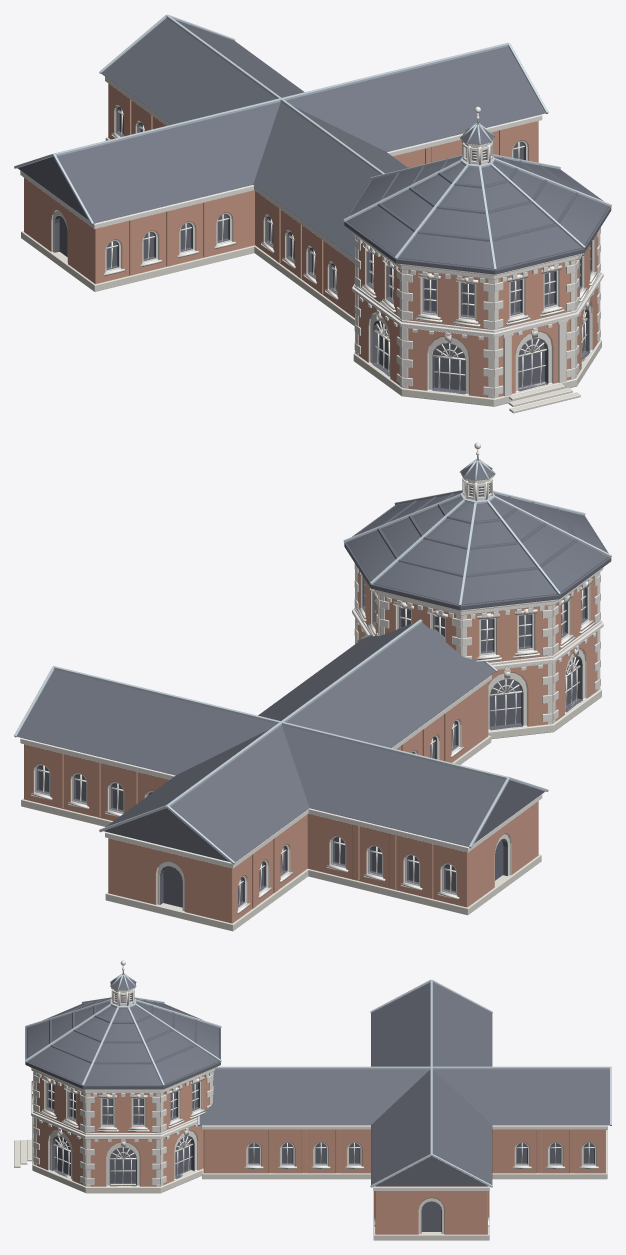
The model's file is red-house.glb.
3 renders of one model, top to bottom at view 1: azimuth 30°, elevation 25°; view 2: azimuth 150°, elevation 25°; view 3: azimuth 270°, elevation 25°, orthographic. The views are drawn at different scales.
Visible parts, largest first — view 1: main; view 2: main; view 3: main.
Part boxes in pixels (left/top/right/bottom): main: left=14, top=14, right=611, bottom=413; main: left=14, top=442, right=611, bottom=931; main: left=14, top=960, right=611, bottom=1240.
Size of the model in its own units: 30.9 by 16 by 44.6.
